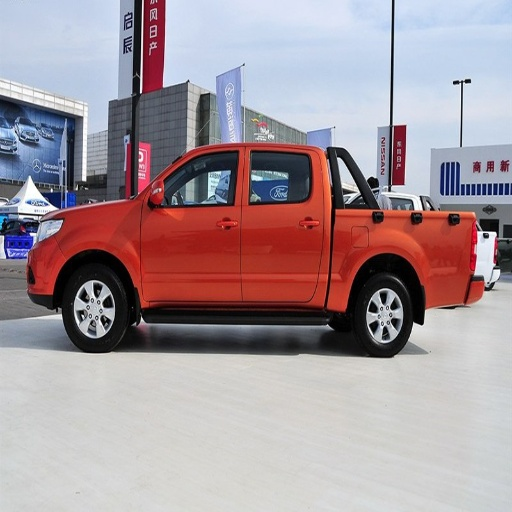back_glass: (243, 146, 324, 298)
front_glass: (140, 148, 244, 299)
tailgate: (324, 195, 474, 309)
trunk: (61, 265, 127, 349), (355, 273, 414, 356)
